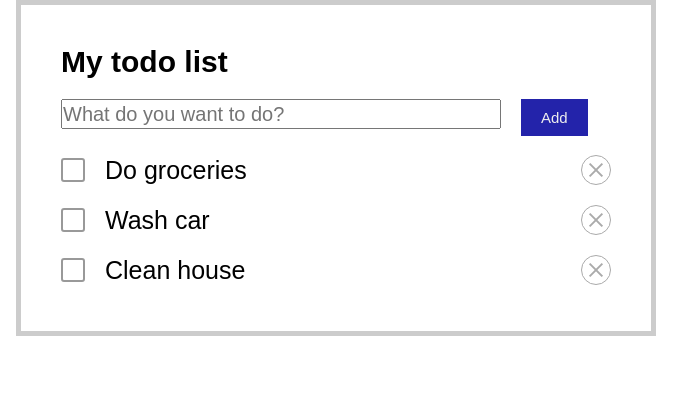
Test case: src/components/App.js › When the add button is clicked with a text inside the input text box › should add a new todo item on top of the the list, whose title is the text entered on the texbox, and the textbox input must become an empty string
The image size is (673, 403).
Type "Paint the house" into the field.
click(281, 114); type("Paint the house")  # box [61,99,501,129]
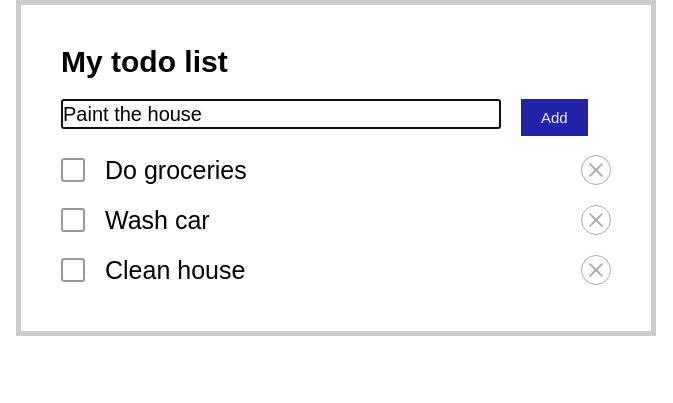
Click the button "Add".
click(554, 118)  # box [521,99,588,136]
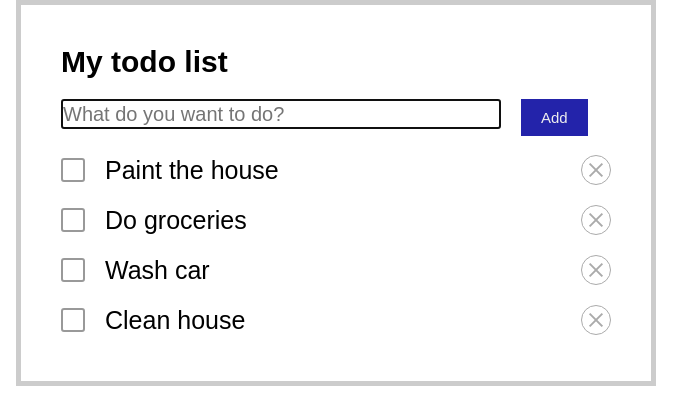
Result: the field is empty at [61,99,501,129]
Result: the number of list items is 4 at [61,145,611,195]; [61,195,611,245]; [61,245,611,295]; [61,295,611,345]
Result: the list item "Paint the house" is shown at [61,145,611,195]
